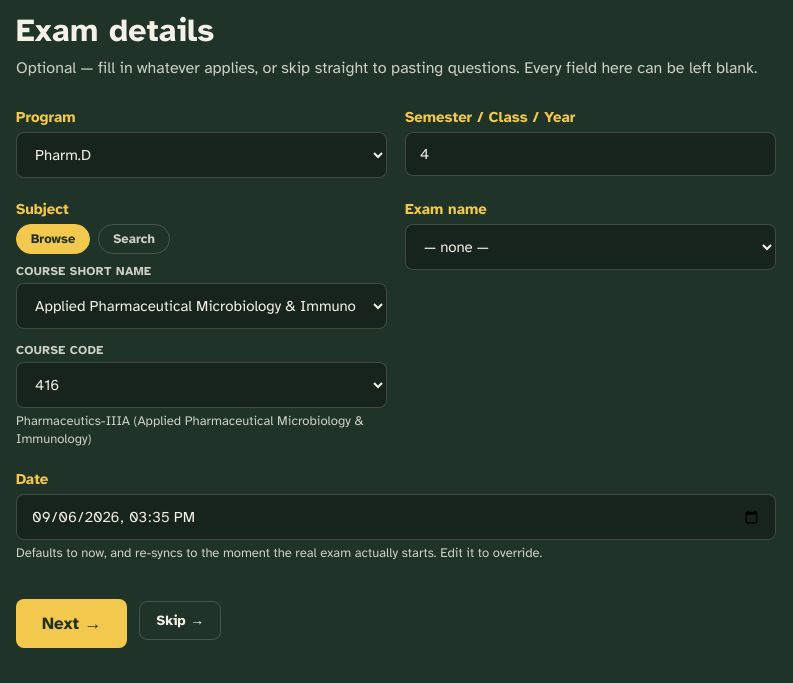
Test: MetaScreen › shows Quiz number only when Exam name is "Class Quiz"
Expected: the field labelled "Quiz number" is not shown
Step 1. Select "Class Quiz" in the dropdown labelled "Exam name" → (590, 247), box [405,224,776,270]
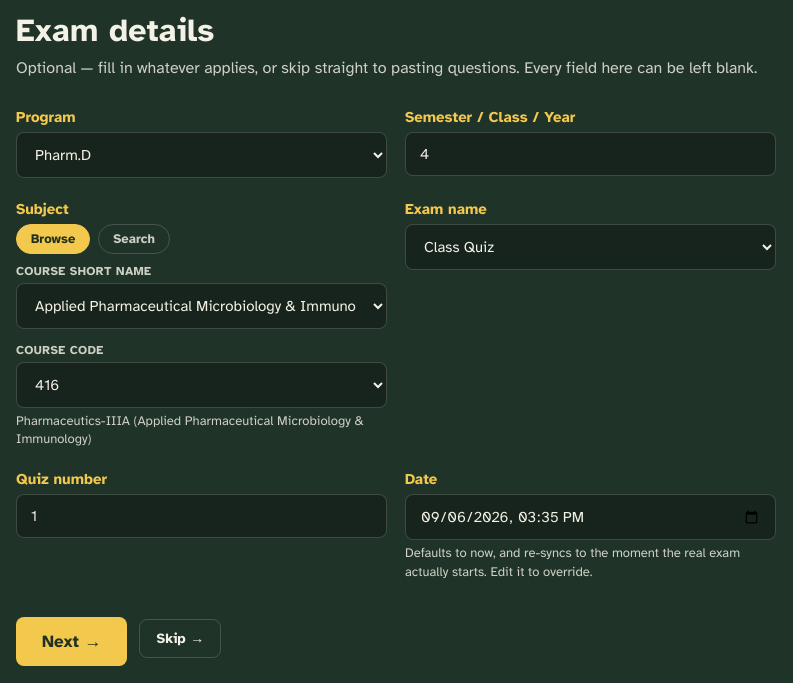
Result: the element labelled "Quiz number" is shown at [16,470,387,581]
